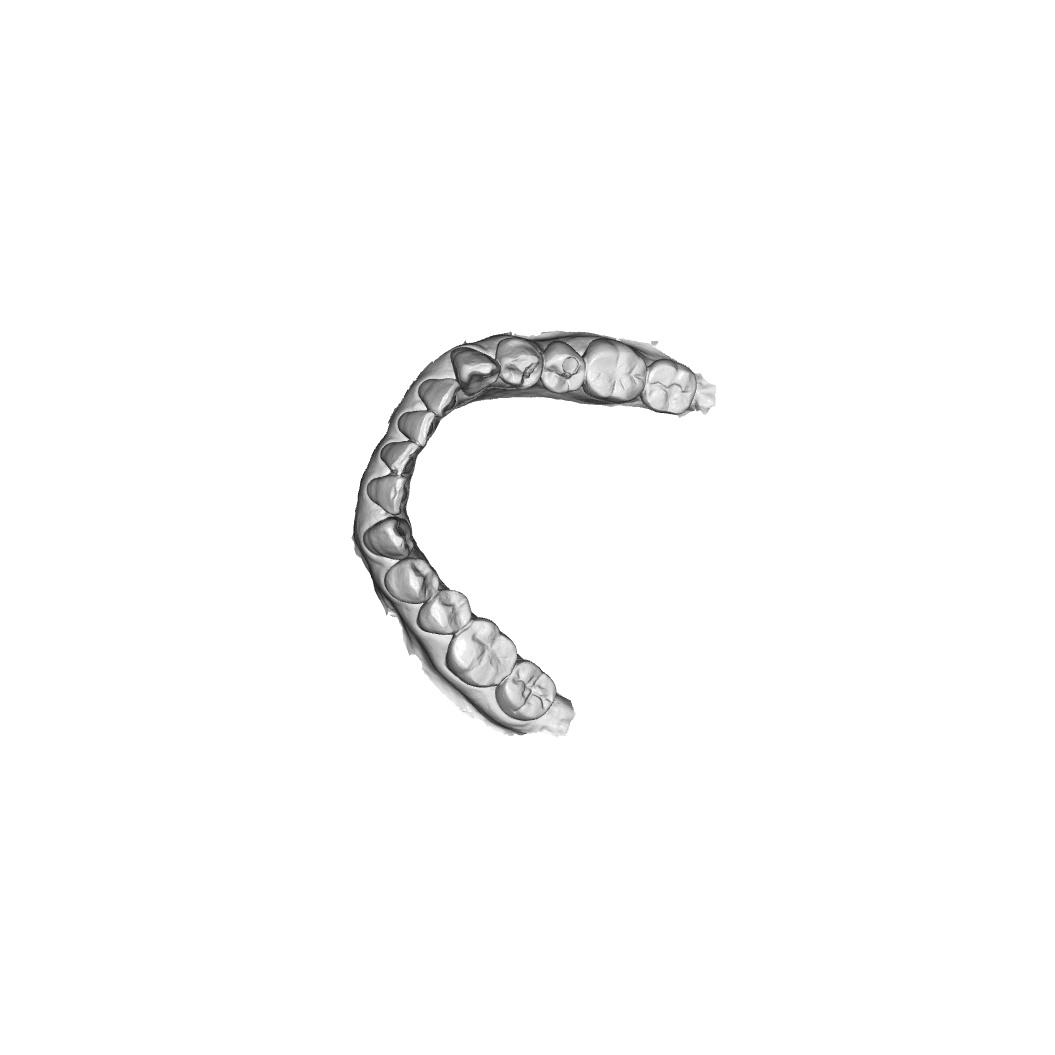canine: (449, 346, 501, 397), (361, 516, 415, 560)
incisor: (416, 378, 461, 419), (366, 473, 408, 516), (396, 409, 439, 449), (379, 440, 422, 477)
molar: (444, 615, 518, 690), (581, 337, 648, 404), (494, 657, 557, 723), (639, 358, 698, 416)
premolar: (384, 556, 441, 606), (495, 336, 544, 392), (540, 339, 587, 395), (417, 589, 472, 635)
